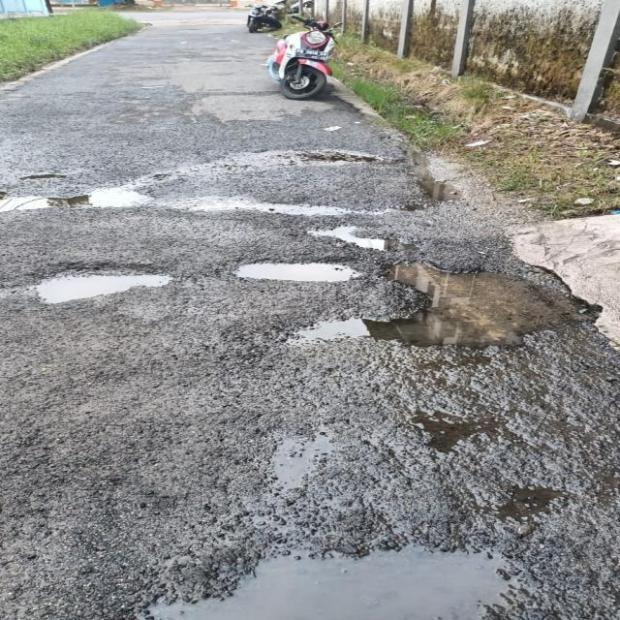lubang: (151, 547, 507, 619), (279, 263, 580, 345), (0, 177, 396, 216), (28, 262, 171, 303), (172, 149, 385, 175), (307, 221, 413, 264), (236, 263, 359, 282)
